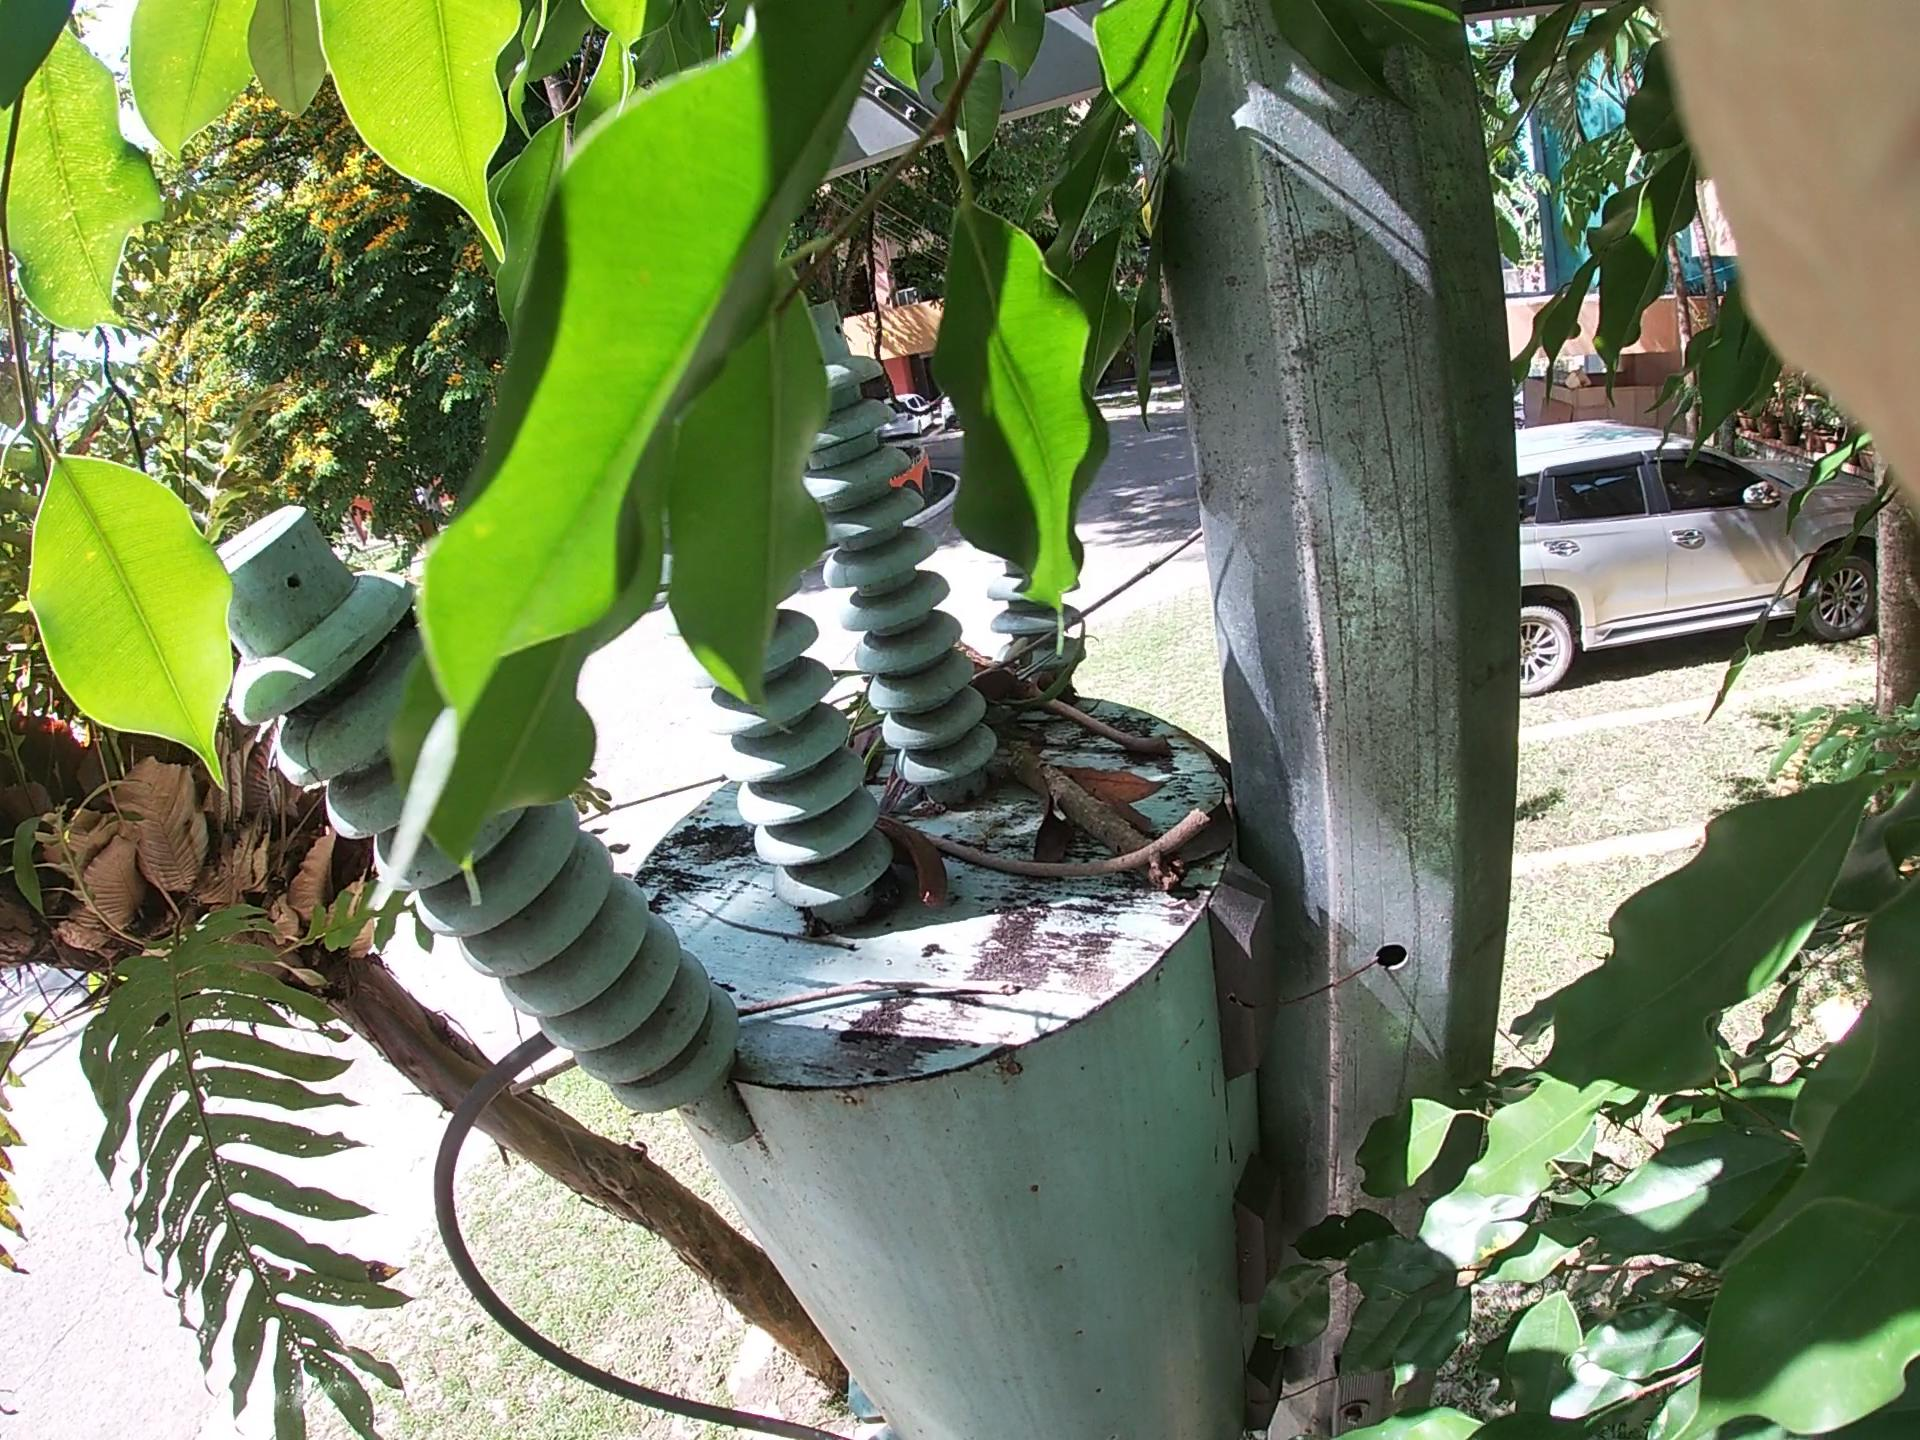branch with leaves: (906, 604, 1232, 973)
leaf: (1033, 749, 1170, 882)
tree branch: (441, 986, 1113, 1137), (909, 486, 1259, 755), (791, 746, 1231, 923), (1052, 649, 1285, 782)
